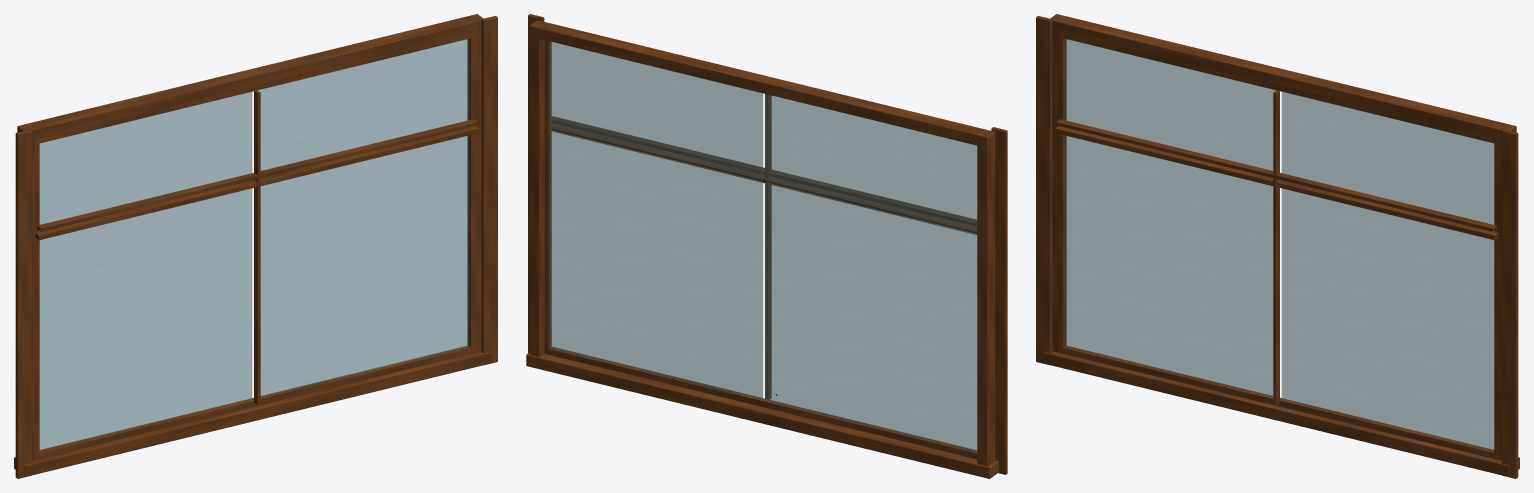
Rendered from asset.glb.
3 renders of one model, left to right at view 1: azimuth 30°, elevation 25°; view 2: azimuth 150°, elevation 25°; view 3: azimuth 330°, elevation 25°, orthographic.
Parts seen in each view (by area): view 1: MaterialBatch_Low-iron_glass, MaterialBatch_Photographic_warm_window_oak; view 2: MaterialBatch_Low-iron_glass, MaterialBatch_Photographic_warm_window_oak; view 3: MaterialBatch_Low-iron_glass, MaterialBatch_Photographic_warm_window_oak.
Part boxes in pixels (x1,y1,x2,y2): MaterialBatch_Low-iron_glass: (39, 39, 468, 450); MaterialBatch_Photographic_warm_window_oak: (14, 14, 497, 478); MaterialBatch_Low-iron_glass: (549, 41, 977, 452); MaterialBatch_Photographic_warm_window_oak: (526, 14, 1007, 478); MaterialBatch_Low-iron_glass: (1065, 39, 1494, 450); MaterialBatch_Photographic_warm_window_oak: (1036, 14, 1519, 478).
Bounding box in the file's own units: 100 × 68.76 × 5.22.
Materials: 4 (4 with a texture image).
